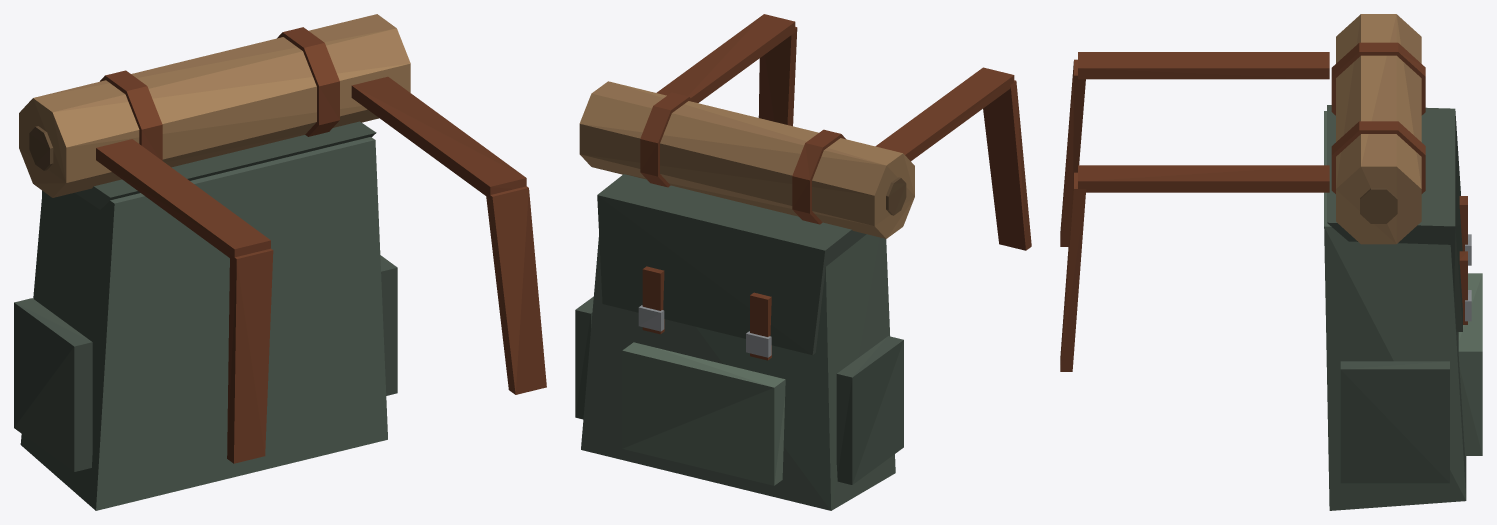
The model's file is mochila.fbx.
3 views of the same model, side by side, from view 1: azimuth 30°, elevation 25°; view 2: azimuth 150°, elevation 25°; view 3: azimuth 270°, elevation 25° (orthographic). The views are drawn at different scales.
Parts seen in each view (by area): view 1: mochila; view 2: mochila; view 3: mochila.
Boxes of the visible parts, <box> form: mochila: <box>14,14,546,510</box>; mochila: <box>575,14,1031,510</box>; mochila: <box>1060,14,1482,510</box>.
Bounding box in the file's own units: 0.4086 × 0.4414 × 0.4698.
1 material, 1 textured.
